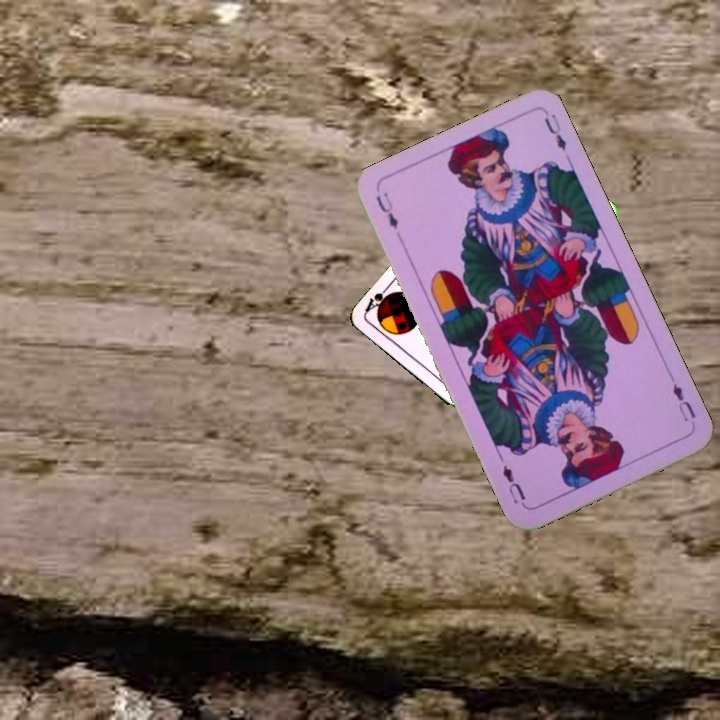EU: (668, 379, 699, 425), (371, 188, 401, 232)
